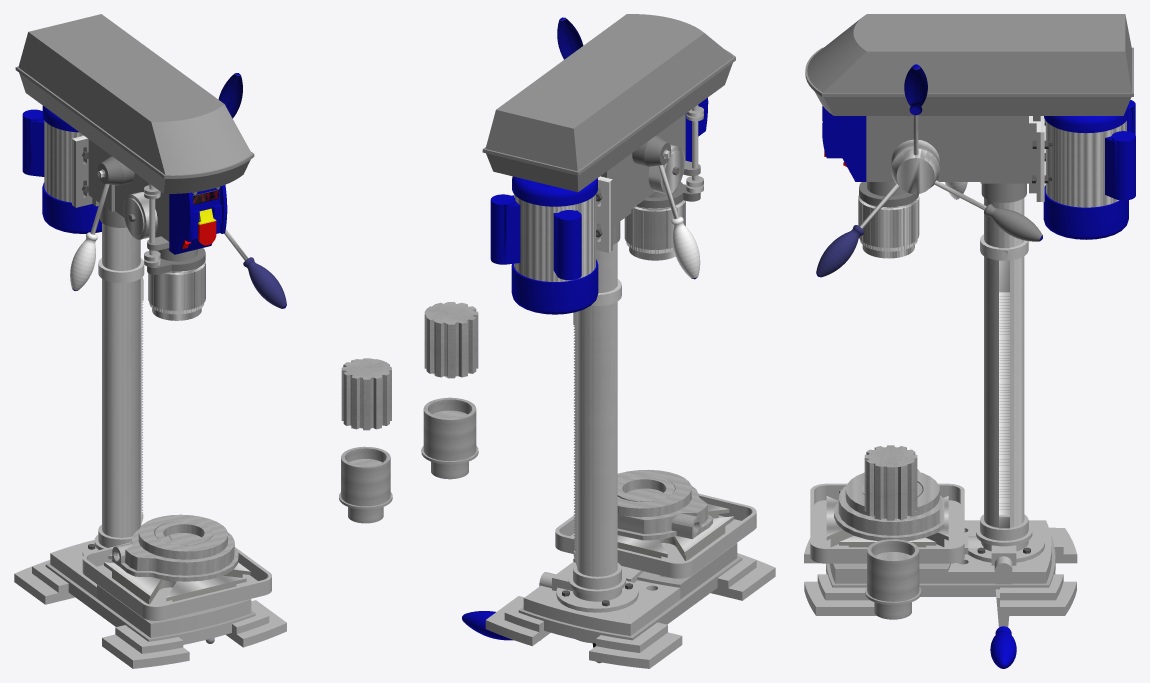
The picture shows the model from 3 angles, left to right: view 1: azimuth 30°, elevation 25°; view 2: azimuth 150°, elevation 25°; view 3: azimuth 270°, elevation 25°; orthographic projection. The views are drawn at different scales.
Visible parts, largest first — view 1: 01, 04, 3, 1, 2, 03, 02.001, 1.001; view 2: 01, 04, 3, 1, 2, 03, 1.001, 02.001; view 3: 01, 04, 02.001, 3, 1, 2, 03.
Boxes of the visible parts, x1,y1,x2,y2 form: 01: [14, 14, 286, 668]; 04: [82, 535, 271, 643]; 3: [112, 514, 238, 582]; 1: [339, 446, 392, 523]; 2: [341, 358, 391, 430]; 03: [148, 261, 205, 320]; 02.001: [218, 73, 286, 308]; 1.001: [155, 520, 212, 545]; 01: [482, 14, 775, 668]; 04: [462, 493, 756, 663]; 3: [617, 469, 712, 540]; 1: [421, 397, 478, 479]; 2: [424, 302, 478, 378]; 03: [624, 200, 685, 260]; 1.001: [617, 475, 674, 501]; 02.001: [557, 17, 583, 59]; 01: [804, 14, 1135, 615]; 04: [810, 483, 1032, 668]; 02.001: [816, 64, 1042, 277]; 3: [834, 469, 944, 541]; 1: [865, 539, 921, 619]; 2: [864, 445, 917, 520]; 03: [858, 195, 919, 258].
Bounding box in the file's own units: 210 × 383 × 197.
Materials: 39 (12 with a texture image).
